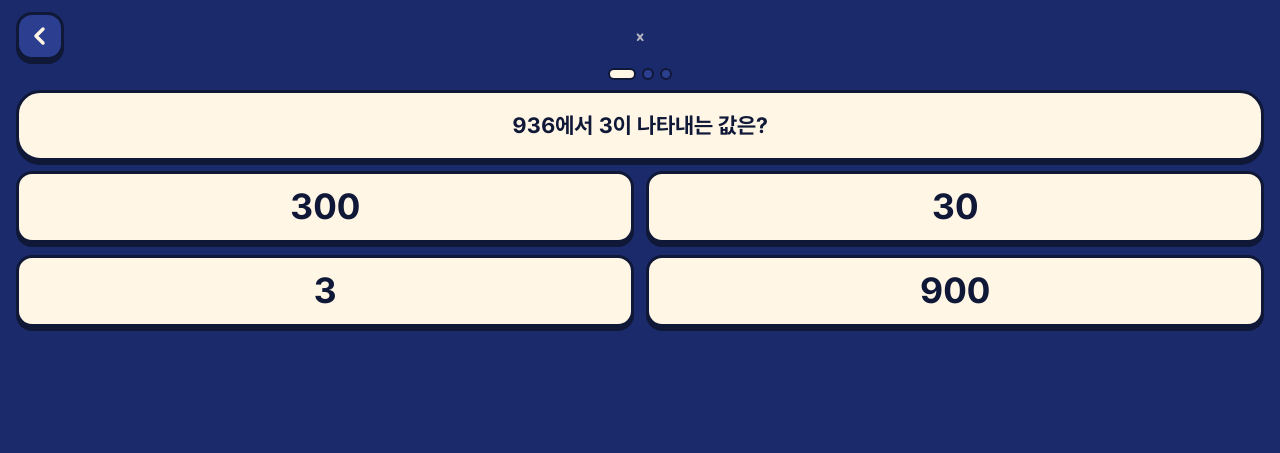
Test: StageScreen — 중간에 나가기 › 계속 풀기를 누르면 풀던 문제로 돌아온다
What coordinates should you click on to do the following:
click the button named "나가기"
I would click on:
 (40, 36)
Its box is [16,12,64,60].
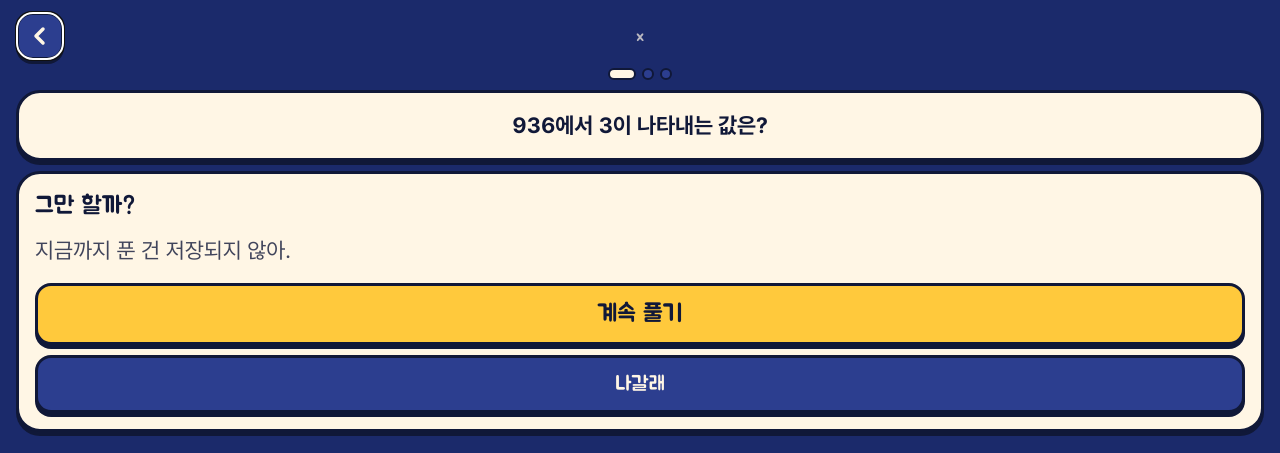
What coordinates should you click on to do the following:
click the button "계속 풀기"
I would click on:
 (640, 314)
Its box is [35,283,1245,345].
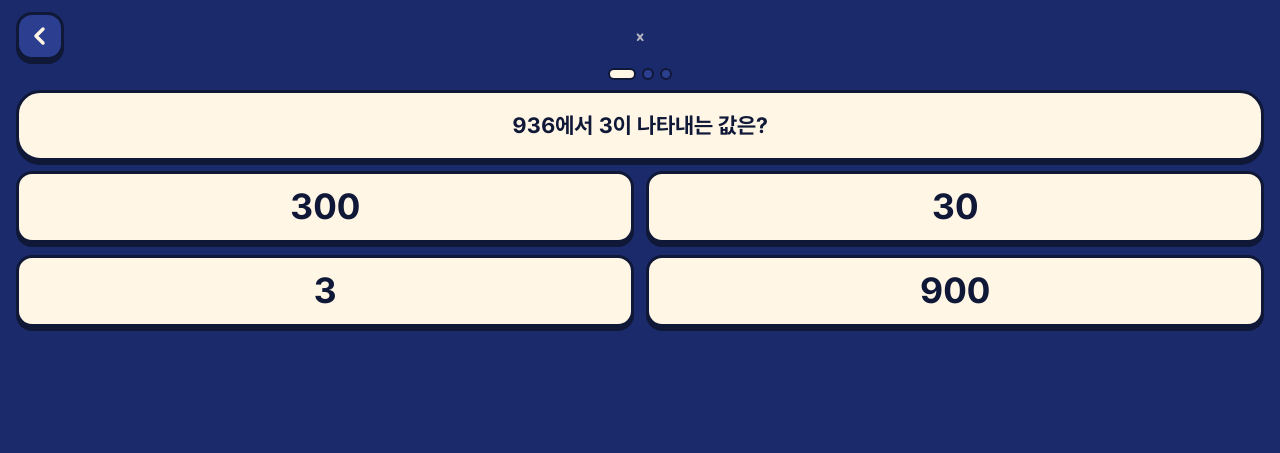
What coordinates should you click on to do the following:
click the button "30"
I would click on:
 (955, 207)
Its box is [646,171,1264,243].
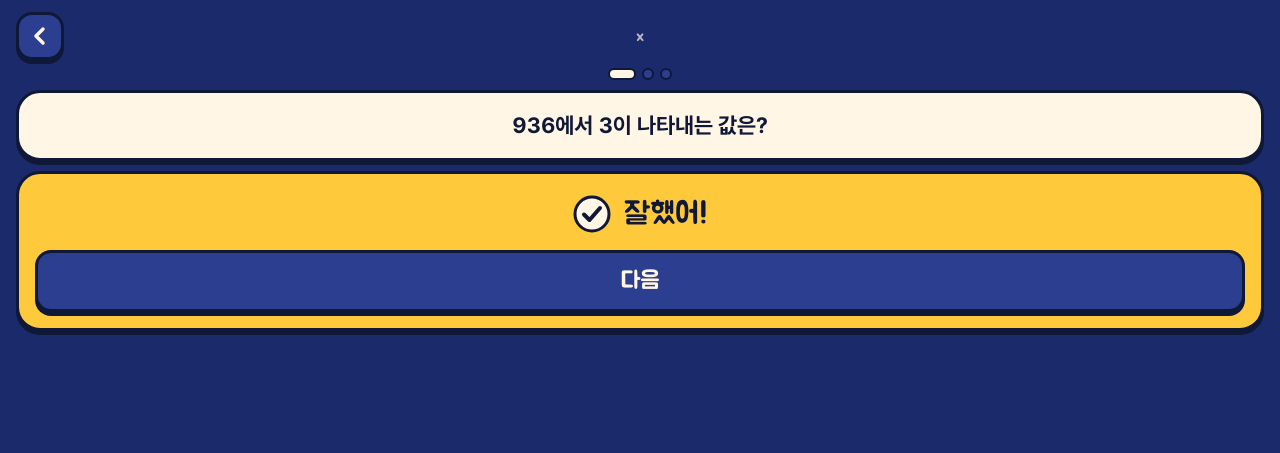
Now the text "잘했어!" is shown, box [624,196,708,232]
